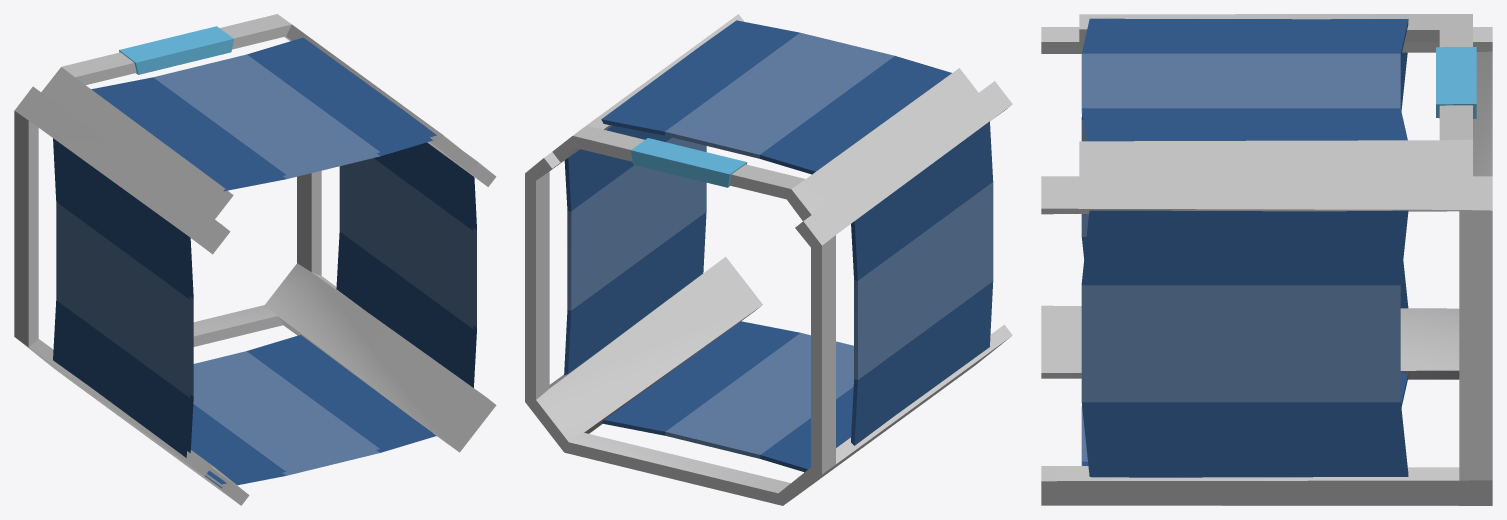
File: Privacy Curtain 01.FBX
3 views of the same model, side by side, from view 1: azimuth 30°, elevation 25°; view 2: azimuth 150°, elevation 25°; view 3: azimuth 270°, elevation 25° (orthographic). The views are drawn at different scales.
Parts seen in each view (by area): view 1: Privacy Curtain 01, Privacy Curtain 01 Door; view 2: Privacy Curtain 01, Privacy Curtain 01 Door; view 3: Privacy Curtain 01, Privacy Curtain 01 Door.
Part boxes in pixels (box(x1,y1,x2,y2)): Privacy Curtain 01: box(14, 36, 496, 505); Privacy Curtain 01 Door: box(41, 14, 462, 219); Privacy Curtain 01: box(525, 81, 1012, 505); Privacy Curtain 01 Door: box(552, 14, 978, 220); Privacy Curtain 01: box(1041, 27, 1492, 505); Privacy Curtain 01 Door: box(1079, 14, 1476, 176).
Size of the model in its own units: 210 by 211 by 235.
Materials: 1 (1 with a texture image).
